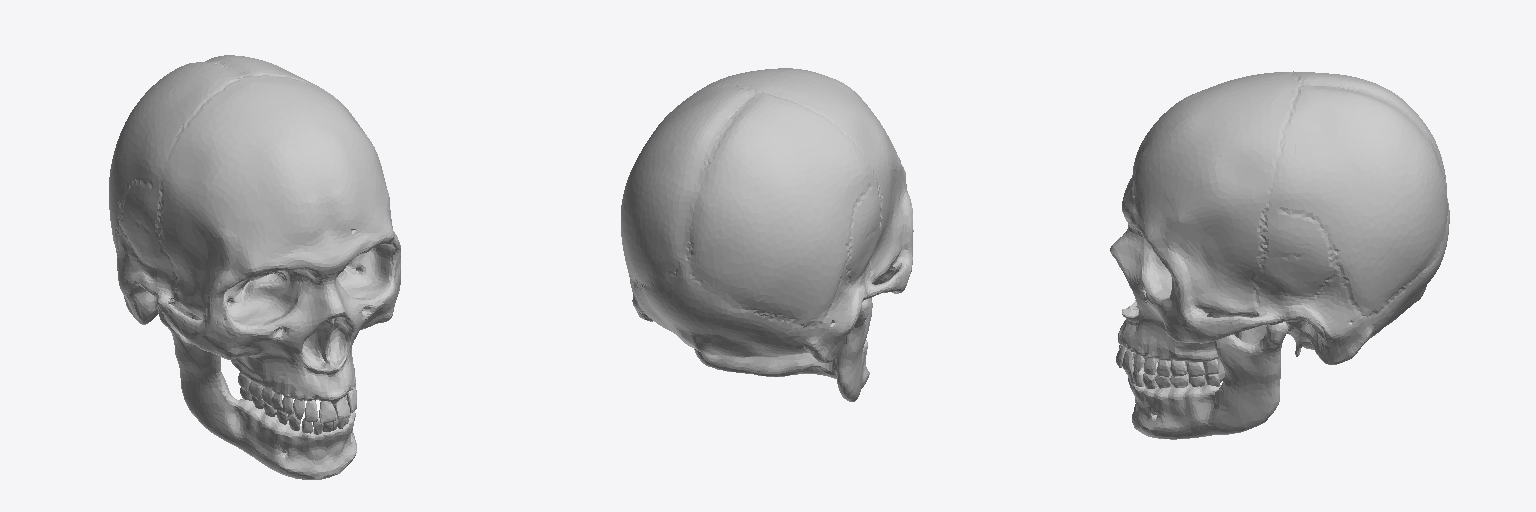
The model's file is skull.obj.
3 views of the same model, side by side, from view 1: azimuth 30°, elevation 25°; view 2: azimuth 150°, elevation 25°; view 3: azimuth 270°, elevation 25° (orthographic).
Parts seen in each view (by area): view 1: Group5732; view 2: Group5732; view 3: Group5732.
Boxes of the visible parts, x1=… form: Group5732: x1=109, y1=55, x2=400, y2=479; Group5732: x1=621, y1=68, x2=913, y2=401; Group5732: x1=1110, y1=71, x2=1449, y2=439.
Bounding box in the file's own units: 1.34 × 2 × 1.79.